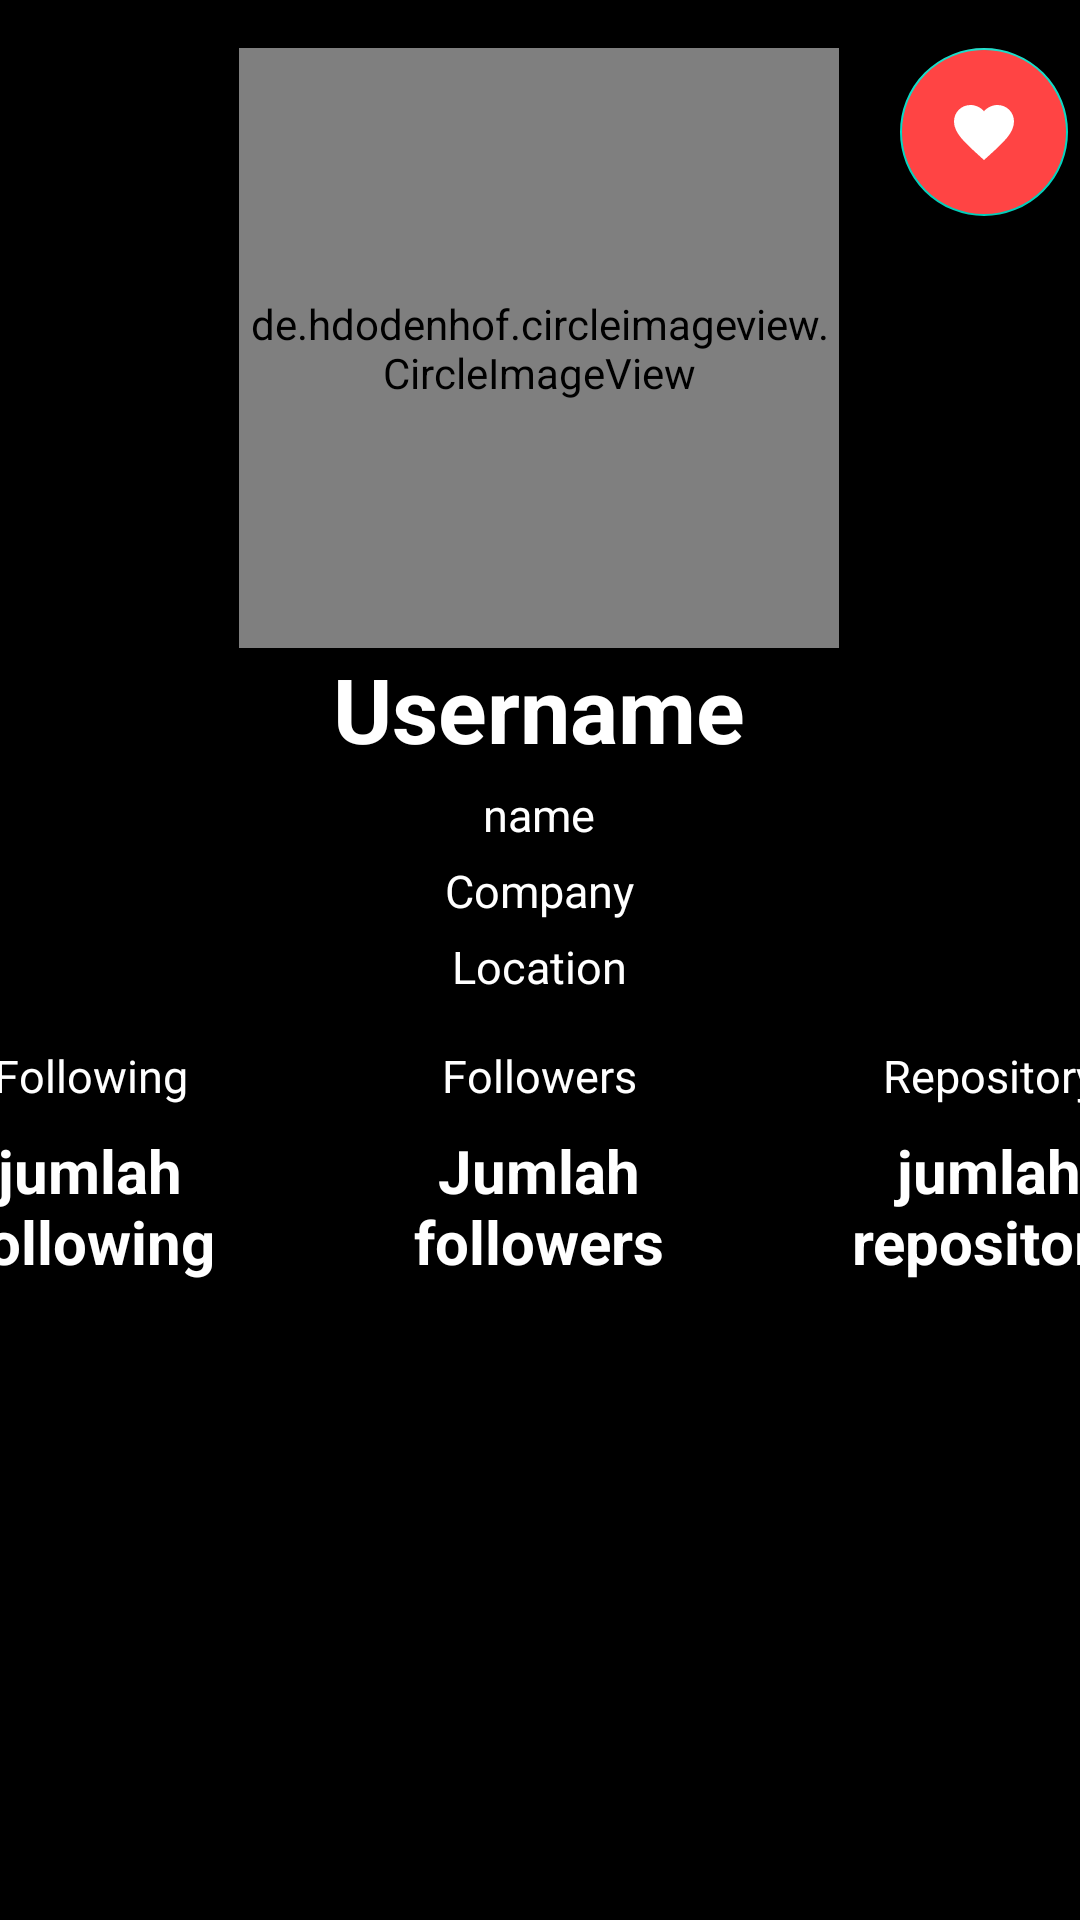

Where to tap for icons on this 1080 x 1920 app screen, as [x,y]:
favorite: [984,132]
